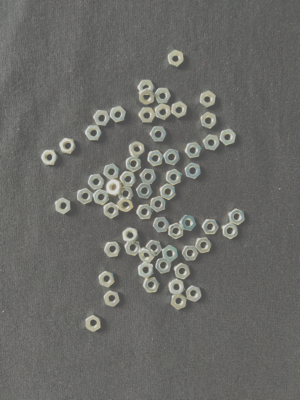nut: (200, 91, 217, 109), (201, 112, 218, 130), (110, 106, 127, 123), (220, 129, 237, 146), (185, 142, 202, 159), (106, 180, 123, 197), (150, 196, 167, 213), (117, 196, 134, 213), (229, 209, 246, 226), (180, 215, 197, 232), (222, 223, 239, 240), (143, 277, 160, 294), (168, 50, 184, 68), (139, 88, 155, 106), (139, 108, 157, 124), (93, 110, 111, 126), (59, 138, 77, 154), (104, 242, 122, 258), (155, 88, 172, 104), (172, 102, 188, 119), (155, 104, 172, 120), (85, 125, 102, 141), (150, 126, 167, 142), (203, 135, 220, 151), (129, 142, 146, 158), (164, 149, 180, 166), (148, 150, 164, 167), (185, 163, 202, 179), (166, 169, 182, 186), (140, 169, 157, 185), (120, 171, 137, 187), (104, 164, 120, 181), (88, 174, 105, 190), (160, 184, 176, 201), (136, 183, 153, 199), (94, 189, 110, 206), (78, 188, 94, 205), (153, 217, 170, 233), (123, 227, 139, 244), (196, 238, 213, 254), (182, 246, 199, 262), (139, 247, 155, 264), (175, 263, 191, 280), (99, 271, 115, 288), (169, 279, 185, 296), (186, 285, 202, 302), (202, 220, 220, 235), (163, 245, 178, 263), (137, 204, 153, 220), (146, 240, 162, 256), (104, 291, 120, 307), (126, 156, 141, 173), (56, 198, 71, 215), (104, 202, 119, 219), (169, 223, 184, 240), (139, 262, 154, 279), (86, 315, 101, 332), (42, 150, 58, 165), (156, 259, 172, 274), (172, 294, 187, 310), (125, 242, 142, 256), (138, 80, 155, 92), (118, 187, 134, 199)
